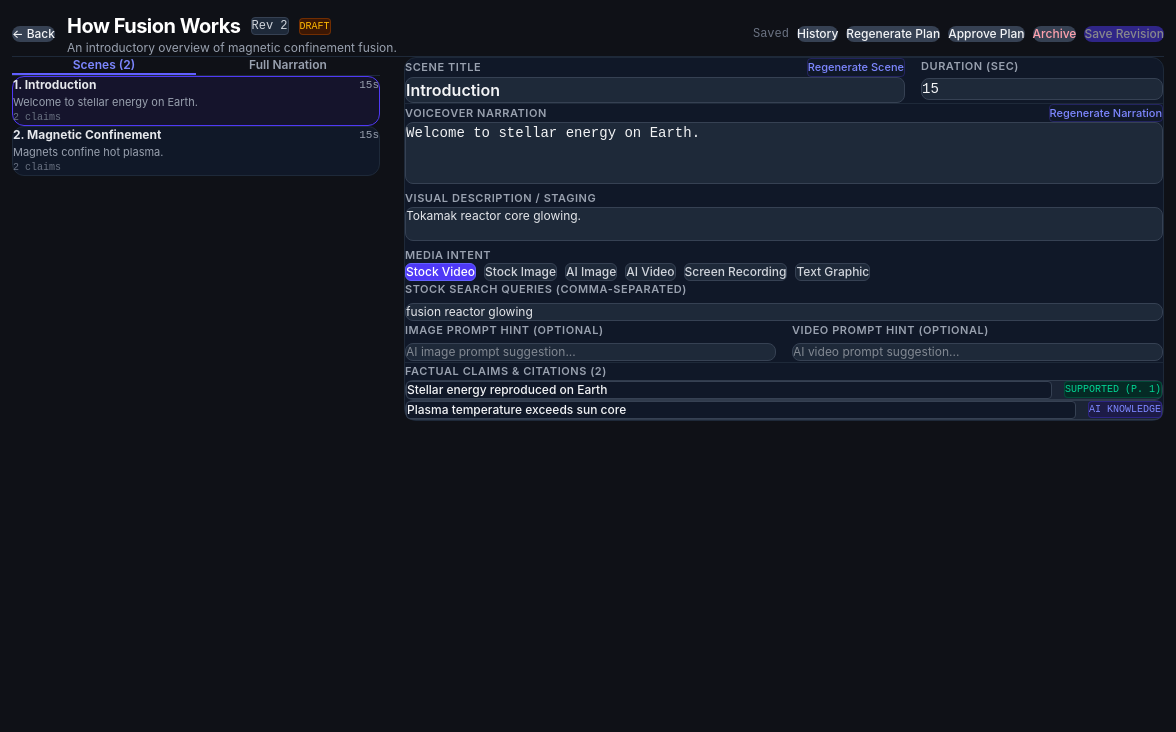
Test case: ContentPlanEditor Component › opens revision history and loads historical revision read-only
The width and height of the screenshot is (1176, 732).
Step 1. Click the button "History" → (818, 34), box [797,26,838,42]
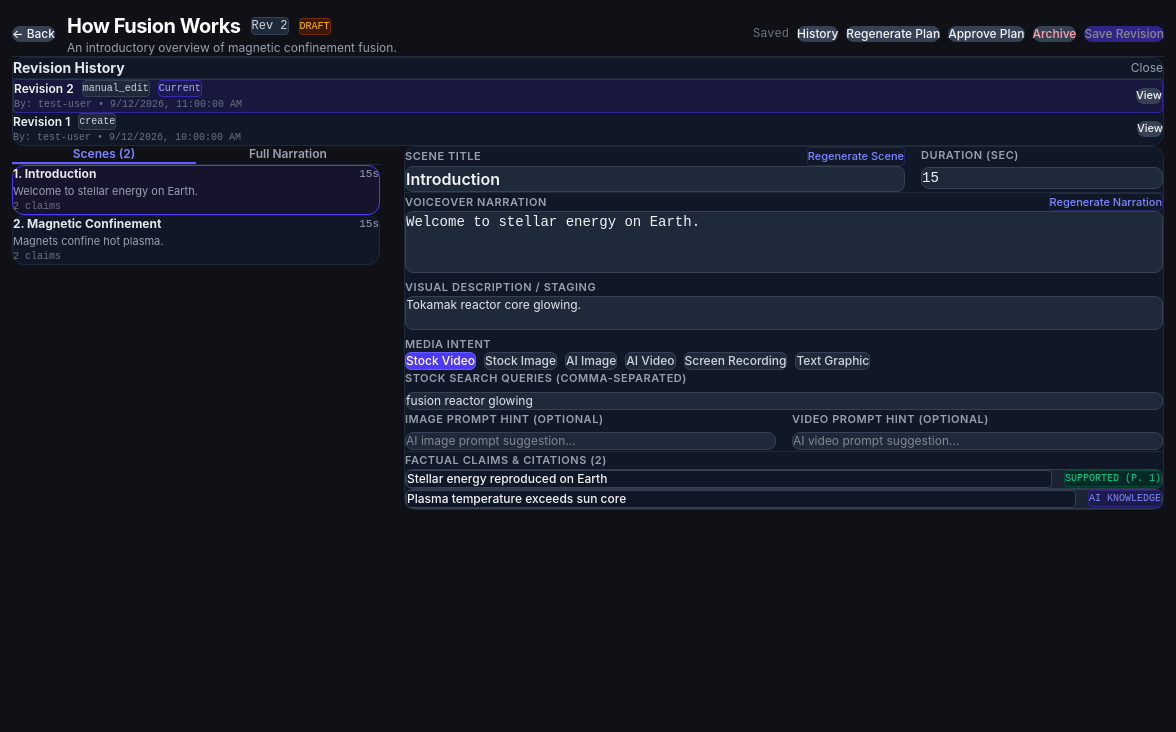
Expected: the text "Revision 1" is shown
Step 2. Click the text "Revision 1" → (42, 122), box [13,114,70,130]
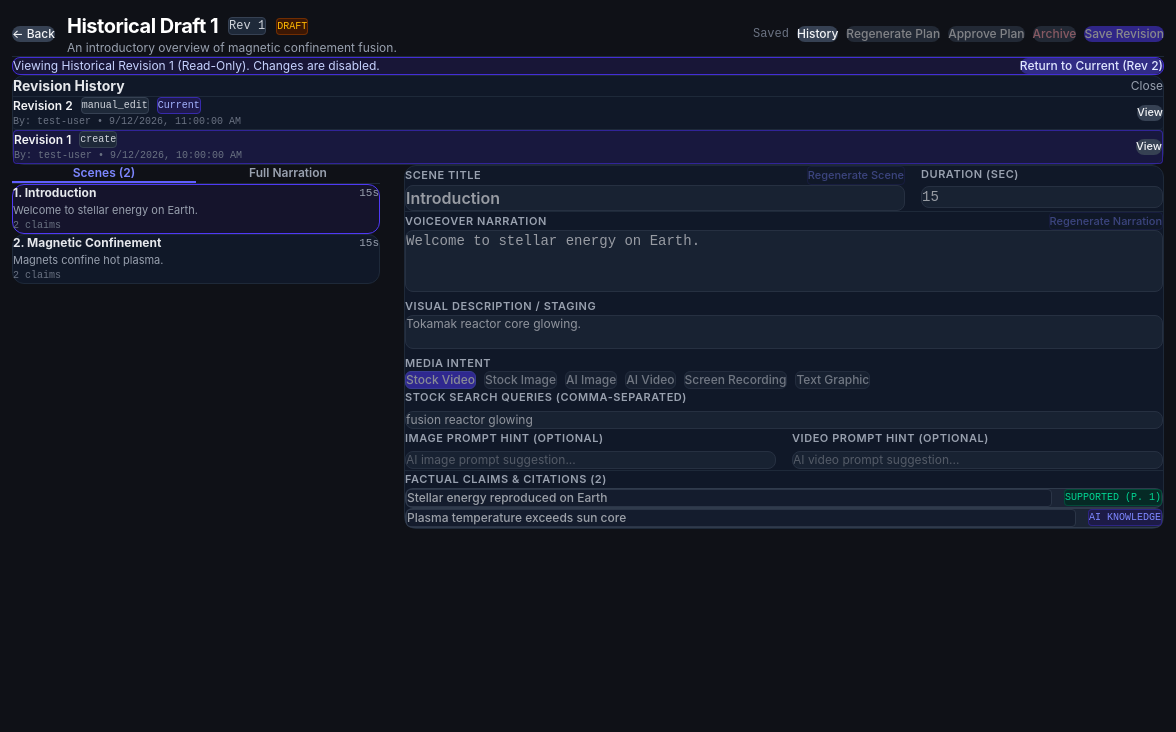
Expected: the button "Save Revision" is disabled, [1084,26,1164,42]
Expected: the text "Viewing Historical Revision 1" is shown, [13,58,380,74]
Expected: the button "Archive" is disabled, [1033,26,1076,42]
